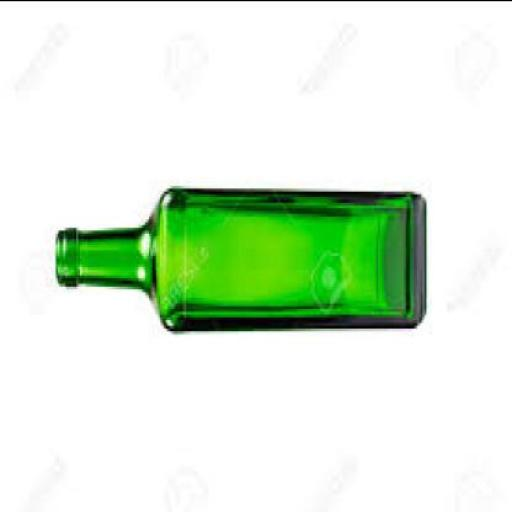glass: (52, 184, 424, 328)
